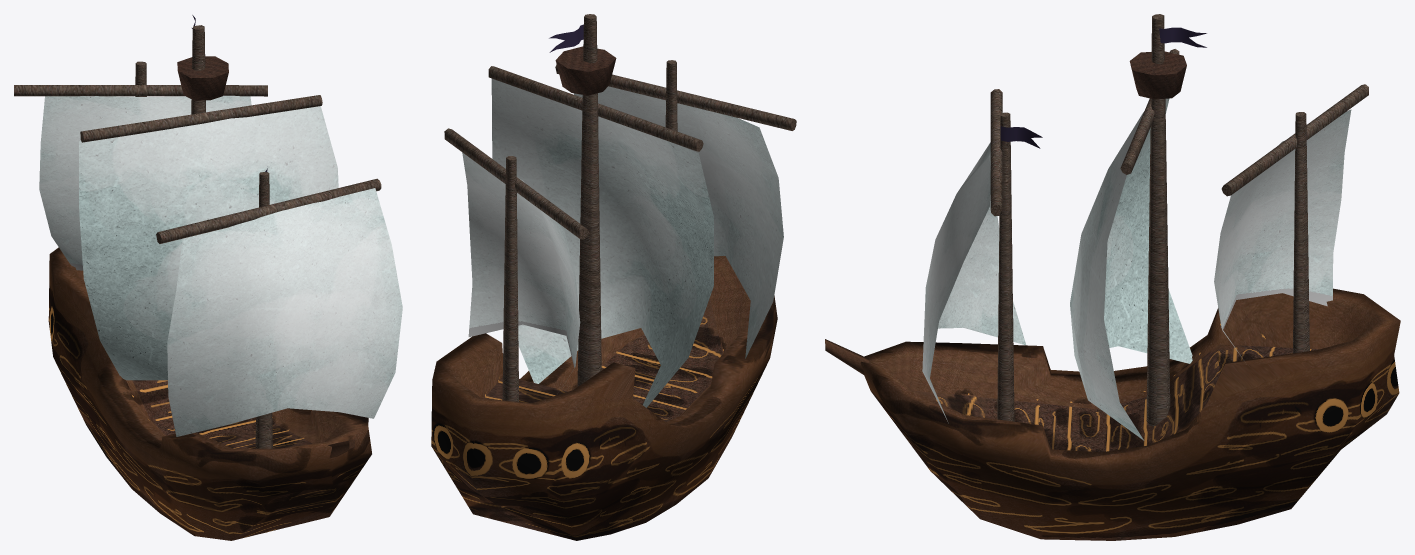
File: barco.glb
The picture shows the model from 3 angles, left to right: view 1: azimuth 30°, elevation 25°; view 2: azimuth 150°, elevation 25°; view 3: azimuth 270°, elevation 25°; orthographic projection. The views are drawn at different scales.
Parts seen in each view (by area): view 1: vela, vela2, barco, vela3, palo1, pCube28, palo, vista, mastil_2, mastil_1; view 2: barco, vela2, vela, vela3, mastil_1, mastil_3, palo1, palo, vista, pCube28, mastil_2, bandra2; view 3: barco, vela2, vela3, vela, mastil_1, mastil_2, mastil_3, pCube28, vista, palo, palo1.
Part boxes in pixels (left/top/right/bottom): vela: left=167, top=188, right=402, bottom=436; vela2: left=79, top=106, right=338, bottom=380; barco: left=48, top=247, right=371, bottom=540; vela3: left=39, top=95, right=251, bottom=270; palo1: left=80, top=95, right=322, bottom=142; pCube28: left=14, top=85, right=267, bottom=96; palo: left=156, top=178, right=381, bottom=243; vista: left=177, top=56, right=228, bottom=100; mastil_2: left=255, top=172, right=272, bottom=532; mastil_1: left=191, top=25, right=205, bottom=114; barco: left=431, top=256, right=777, bottom=540; vela2: left=491, top=78, right=713, bottom=407; vela: left=574, top=86, right=783, bottom=358; vela3: left=462, top=152, right=580, bottom=371; mastil_1: left=577, top=14, right=601, bottom=386; mastil_3: left=502, top=156, right=518, bottom=401; palo1: left=488, top=66, right=703, bottom=151; palo: left=555, top=64, right=796, bottom=130; vista: left=555, top=46, right=616, bottom=95; pCube28: left=444, top=128, right=588, bottom=239; mastil_2: left=665, top=60, right=677, bottom=131; bandra2: left=549, top=24, right=583, bottom=52; barco: left=860, top=288, right=1400, bottom=540; vela2: left=1070, top=98, right=1192, bottom=440; vela3: left=1214, top=109, right=1351, bottom=358; vela: left=922, top=142, right=1025, bottom=423; mastil_1: left=1146, top=14, right=1170, bottom=426; mastil_2: left=997, top=112, right=1014, bottom=421; mastil_3: left=1293, top=112, right=1309, bottom=353; pCube28: left=1221, top=84, right=1368, bottom=196; vista: left=1129, top=51, right=1186, bottom=99; palo: left=990, top=89, right=1002, bottom=216; palo1: left=1120, top=49, right=1179, bottom=174.
Bounding box in the file's own units: 0.1794 × 0.334 × 0.3531.
1 material, 1 textured.
